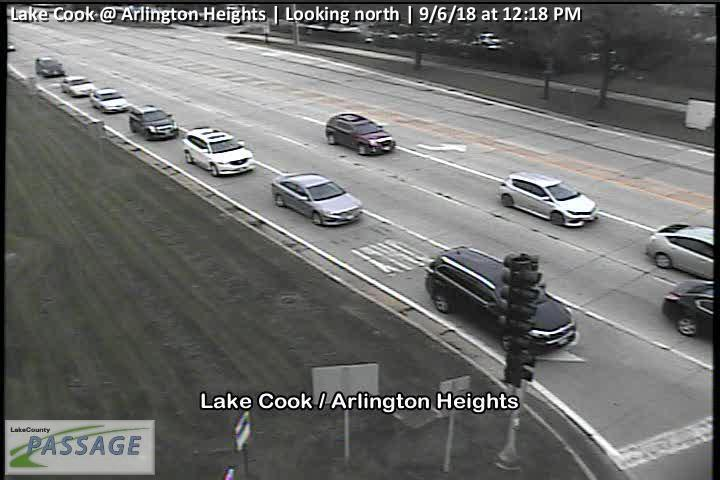SUV: (426, 247, 577, 353), (496, 172, 599, 227), (182, 127, 255, 177), (326, 113, 395, 155), (128, 105, 178, 140), (36, 57, 64, 76)
Sedan: (272, 173, 362, 227), (646, 222, 720, 281), (89, 88, 128, 113), (61, 76, 96, 96)
